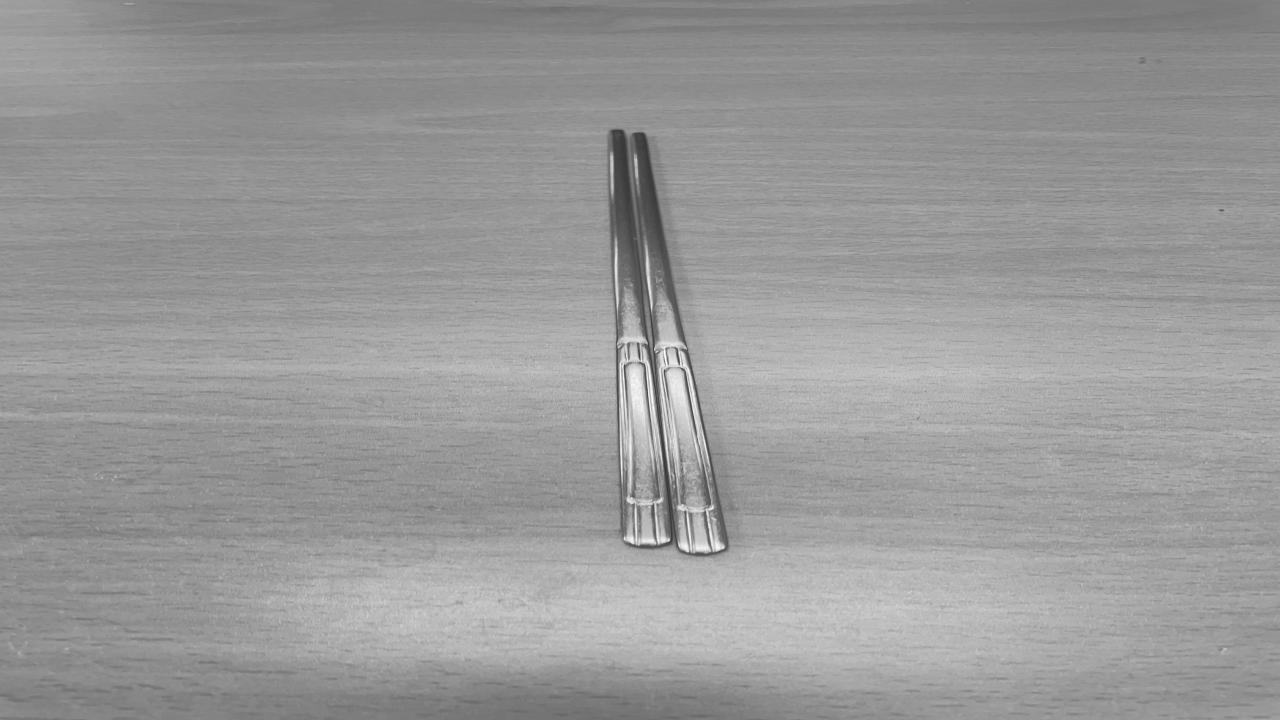chopstick: (605, 130, 728, 553)
